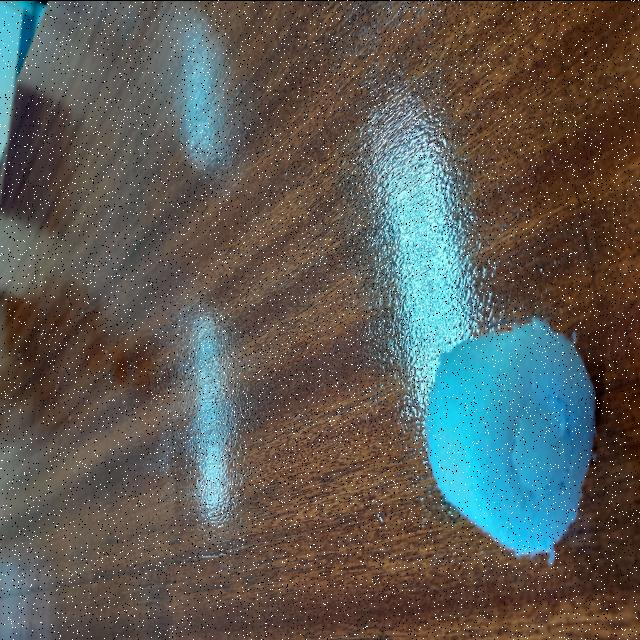wheel: (427, 303, 602, 563)
